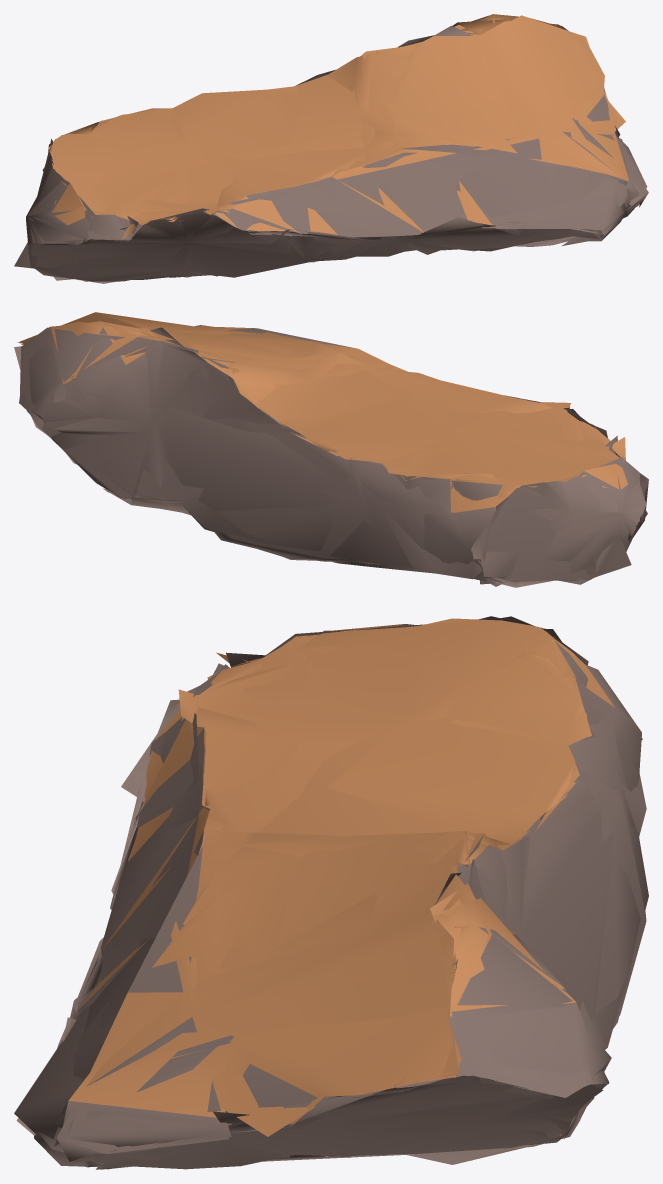
File: rock_slab_b.glb
3 renders of one model, top to bottom at view 1: azimuth 30°, elevation 25°; view 2: azimuth 150°, elevation 25°; view 3: azimuth 270°, elevation 25°, orthographic. The views are drawn at different scales.
Parts seen in each view (by area): view 1: rock_slab_b-convcol; view 2: rock_slab_b-convcol; view 3: rock_slab_b-convcol.
Part boxes in pixels (x1,y1,x2,y2): rock_slab_b-convcol: (14,14,648,283); rock_slab_b-convcol: (14,312,648,587); rock_slab_b-convcol: (14,616,648,1169).
Bounding box in the file's own units: 1.2 × 0.3144 × 0.6372.
